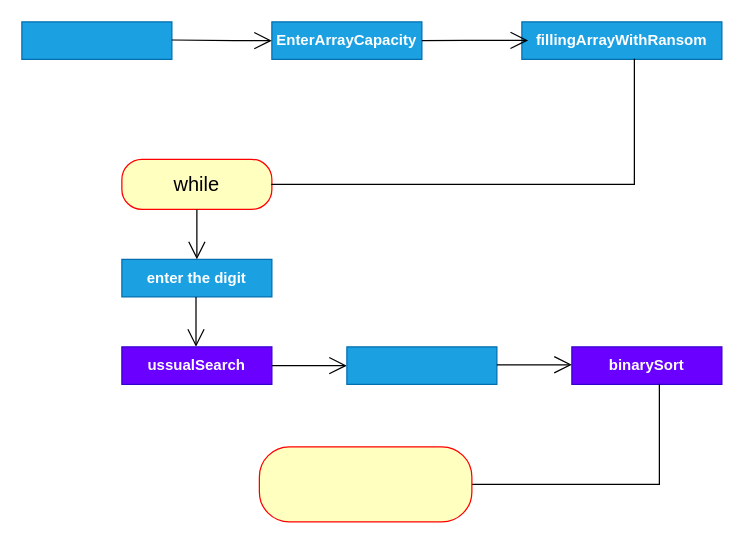
Some shapes in this 744 by 544 pixel diagram are drawn without their labels. The shapes that lost their labels are listed below. From the top down, each one's centre as x and y in pixels, then its label:
(x=96, y=40): Start programm
(x=421, y=365): sortArrayForBinary
(x=365, y=484): Result
